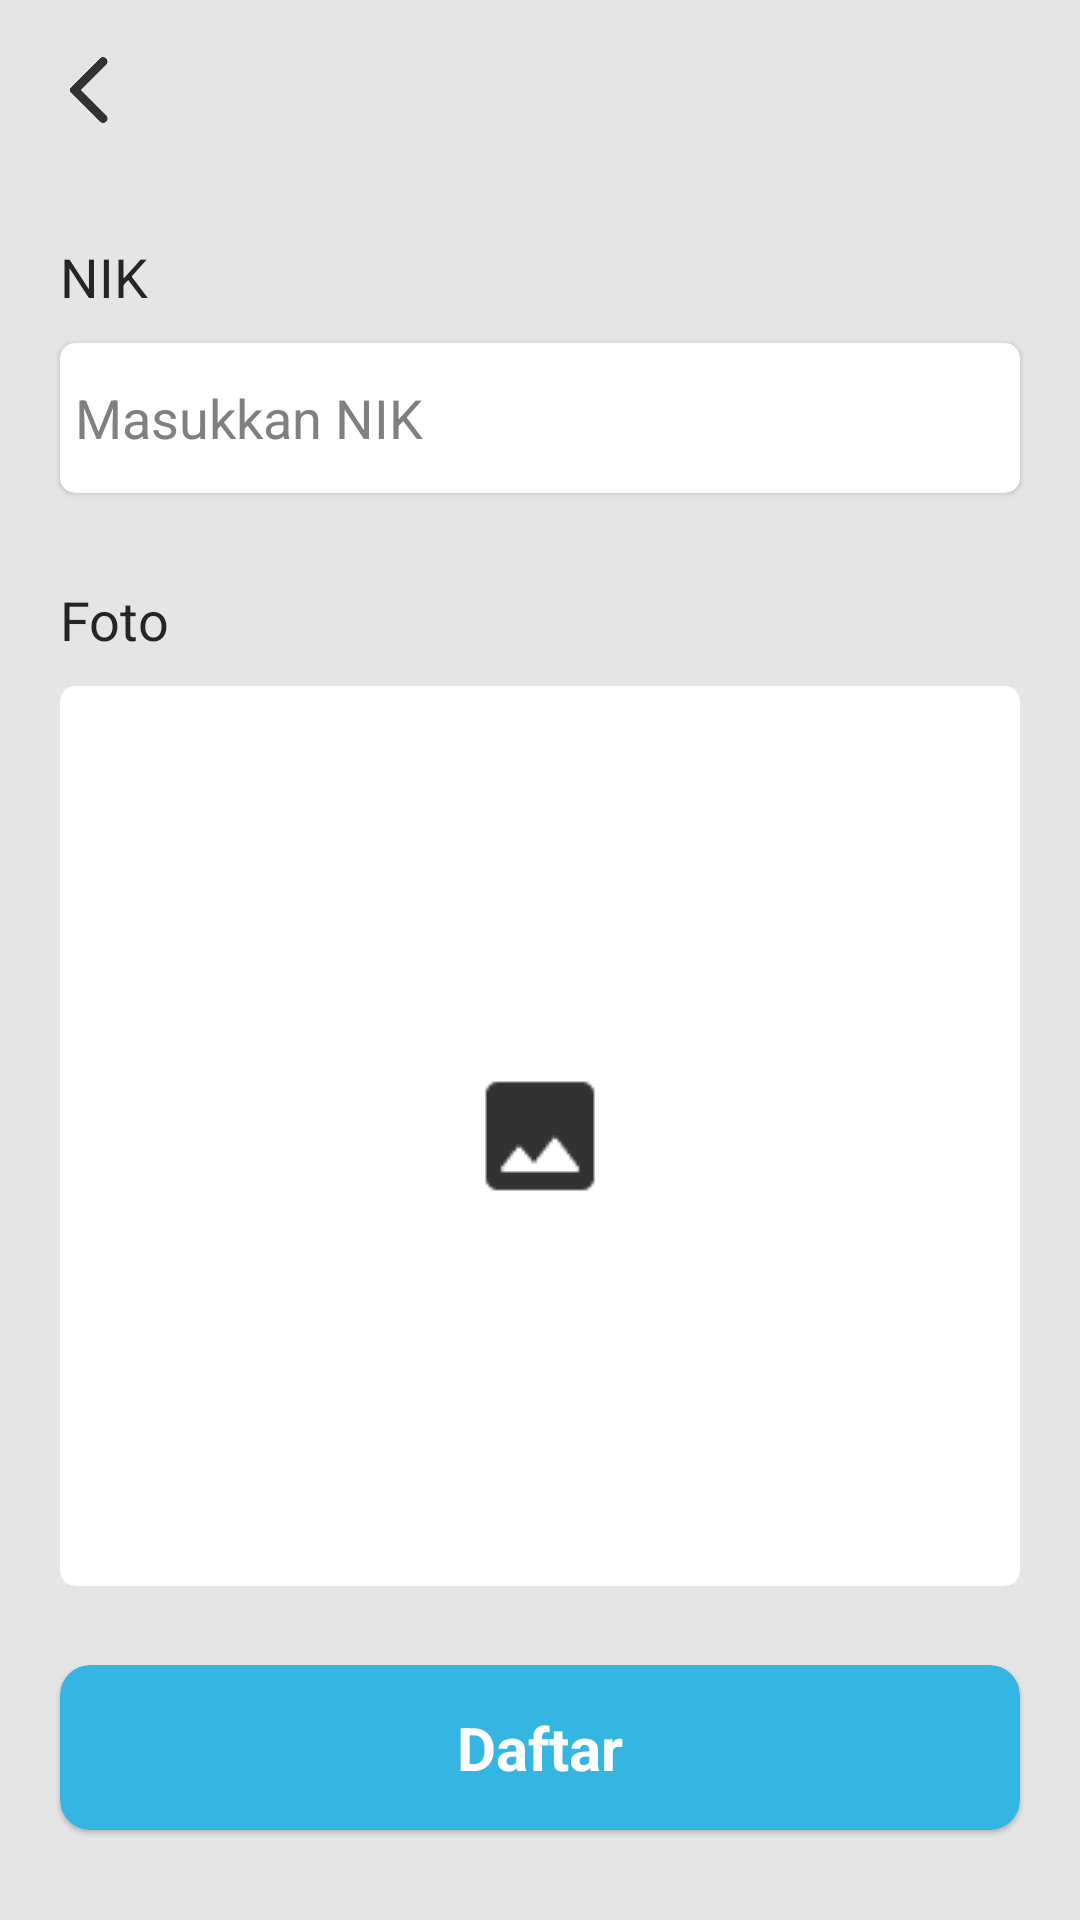

Screen size 1080px×1920px. Icon name, then its box in pixels as (x1, y1, x2, y2):
back: (70, 57, 108, 123)
